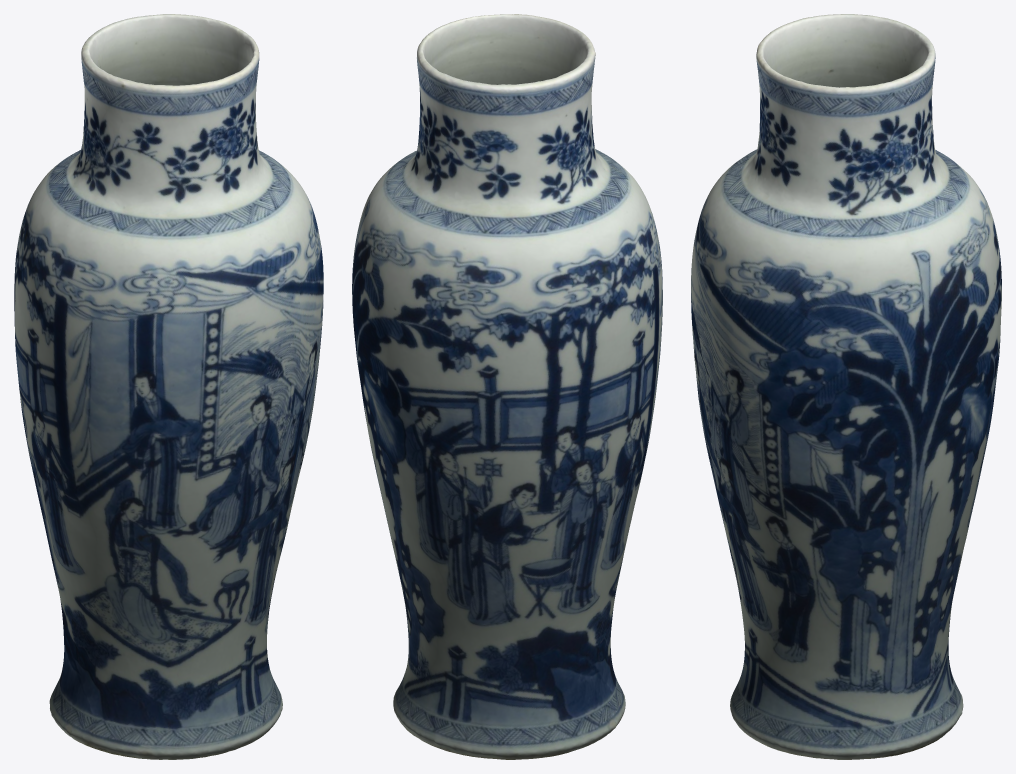
The model's file is baluster-vase.glb.
3 renders of one model, left to right at view 1: azimuth 30°, elevation 25°; view 2: azimuth 150°, elevation 25°; view 3: azimuth 270°, elevation 25°, orthographic.
Visible parts, largest first — view 1: mesh_n3d; view 2: mesh_n3d; view 3: mesh_n3d.
Part boxes in pixels (left/top/right/bottom): mesh_n3d: left=14, top=14, right=323, bottom=759; mesh_n3d: left=352, top=14, right=662, bottom=759; mesh_n3d: left=691, top=14, right=1001, bottom=759.
Size of the model in its own units: 0.1714 by 0.4053 by 0.1712.
1 material, 1 textured.
